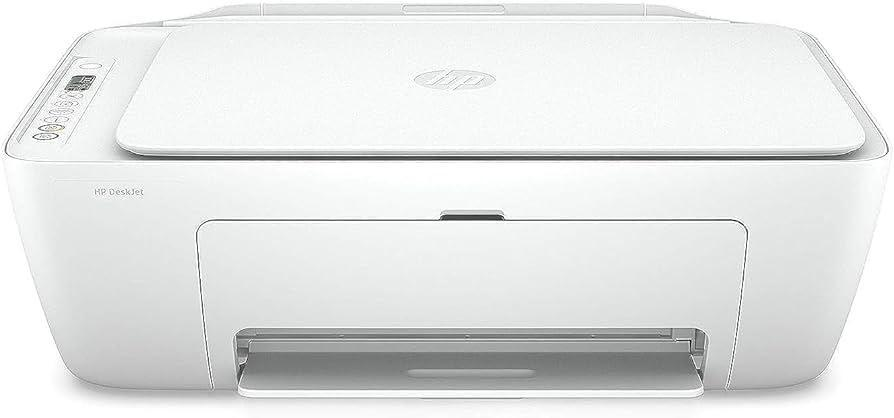Printer: (0, 0, 893, 397)
